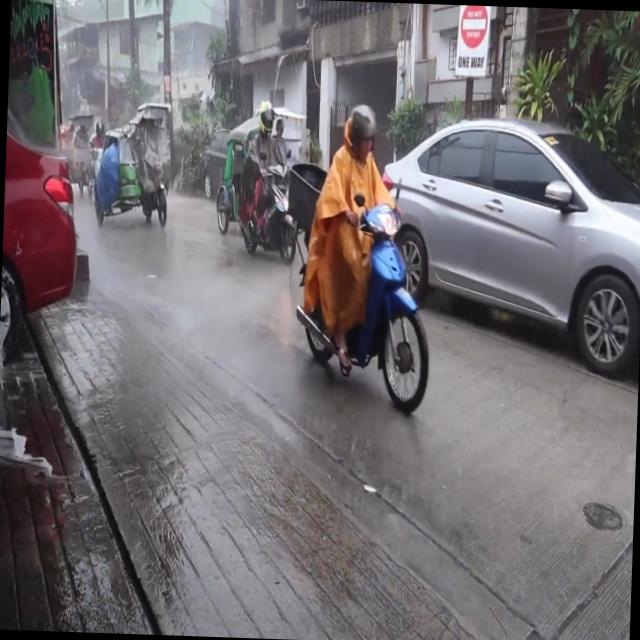full: (255, 95, 278, 142), (92, 115, 107, 140)
half: (344, 96, 380, 163)
